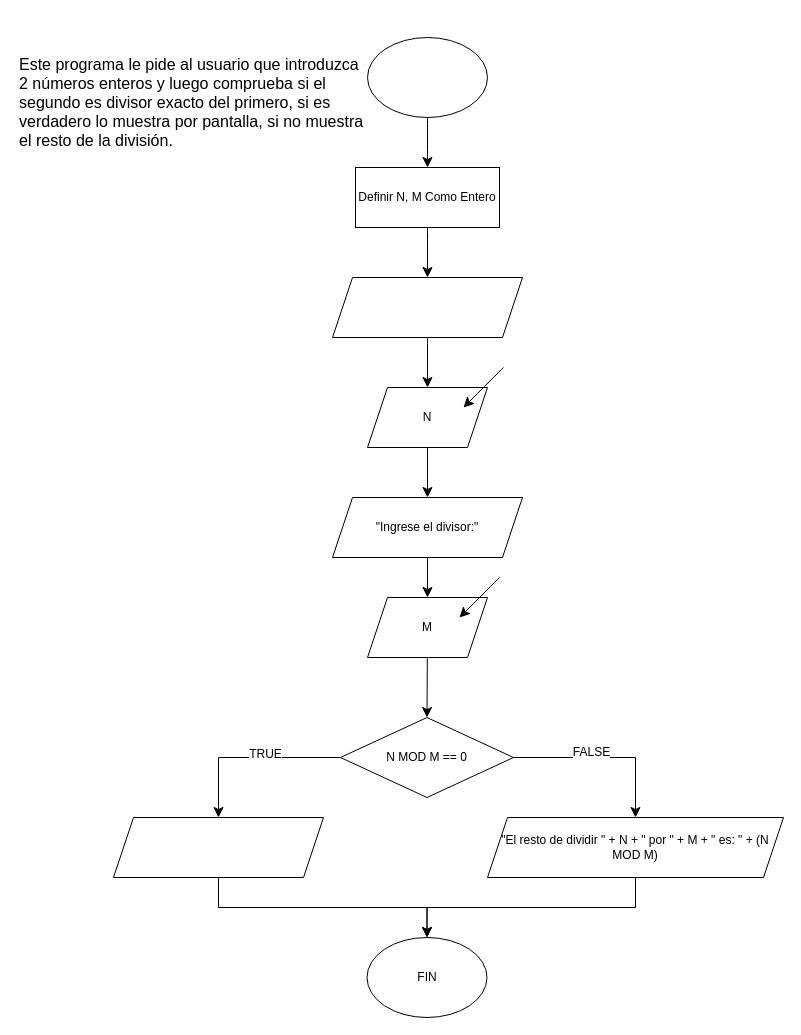
Image size: 801x1035. Some labels were removed from this diagram. Each missing label, with the centre of its shape:
"Ingrese el numero:": (x=427, y=307)
INICIO: (x=427, y=77)
M + " es divisor exacto de " + N: (x=218, y=847)
